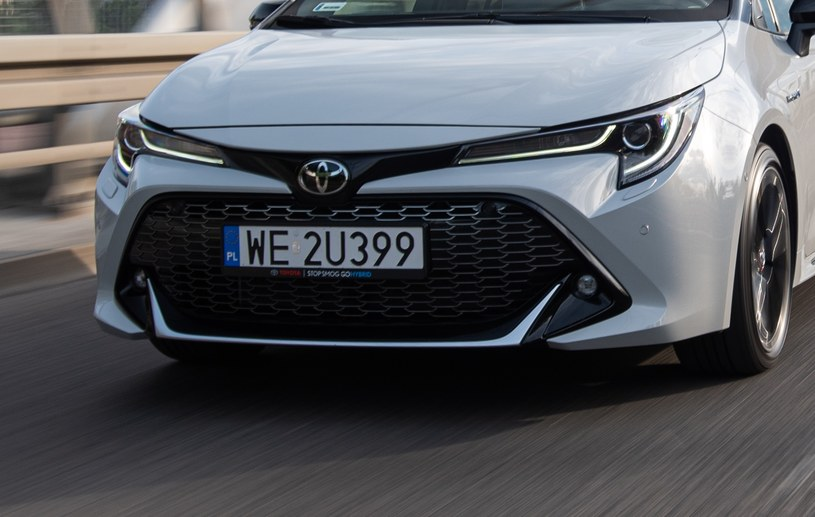number_plate: (224, 226, 425, 278)
